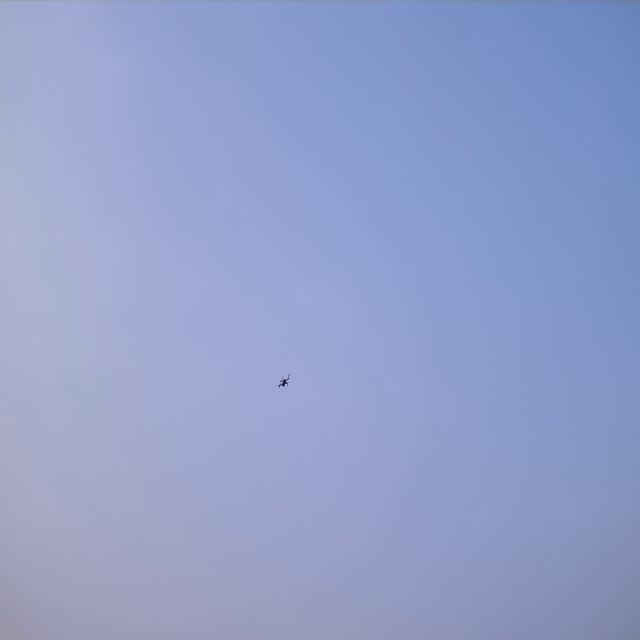UAV: (276, 372, 291, 390)
